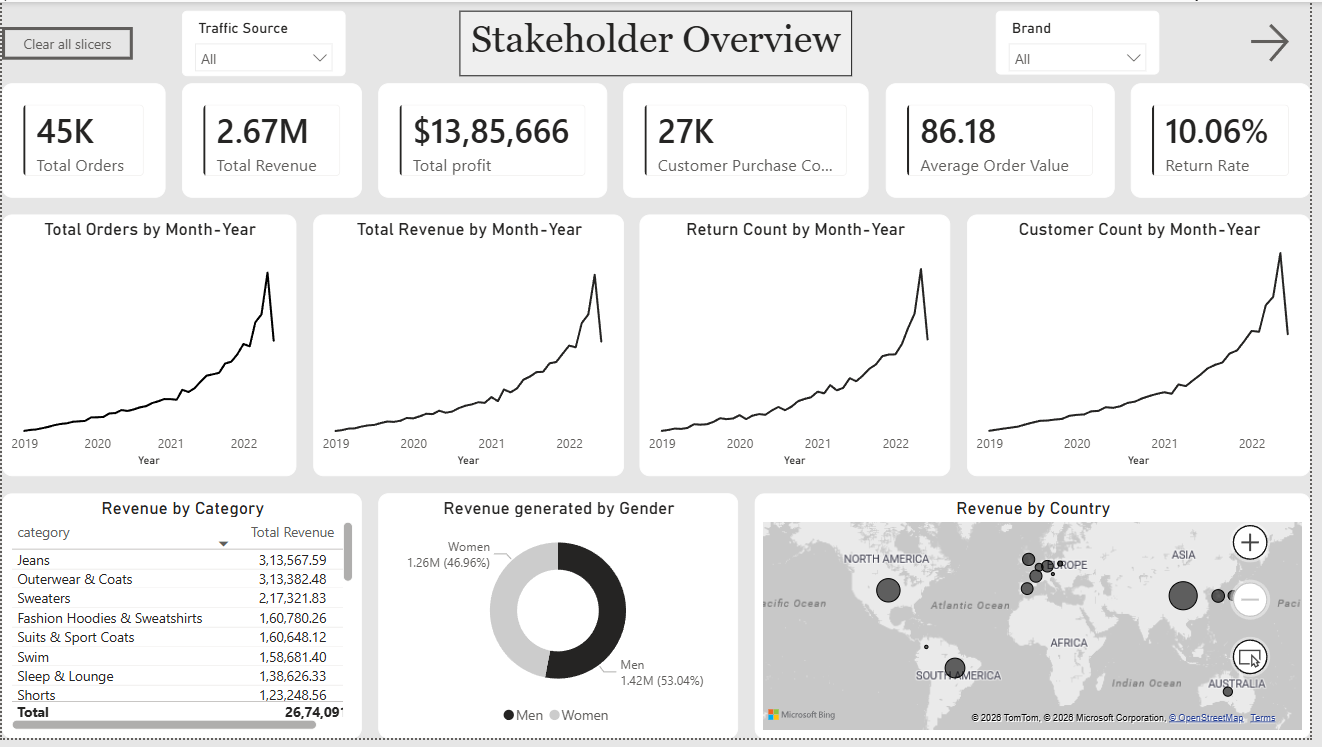

Layout of this report page (visuals, bound fields, positions):
{"tool":"powerbi","page":{"name":"Stakeholder Overview","canvas":[1280,720],"ordinal":1},"visuals":[{"type":"cardVisual","fields":{"Data":["Measure.Total Revenue"]},"box":[176,80,176,112],"z":0},{"type":"cardVisual","fields":{"Data":["Measure.Total profit"]},"box":[368,80,224,112],"z":1000},{"type":"cardVisual","fields":{"Data":["Stakeholder Overview Measure.Total Orders"]},"box":[0,80,160,112],"z":2000},{"type":"cardVisual","fields":{"Data":["Stakeholder Overview Measure.Customer purchase cnt"]},"box":[608,80,240,112],"z":3000},{"type":"cardVisual","fields":{"Data":["Stakeholder Overview Measure.Average Order Value"]},"box":[864,80,224,112],"z":4000},{"type":"cardVisual","fields":{"Data":["Stakeholder Overview Measure.Return Rate"]},"box":[1104,80,176,112],"z":5000},{"type":"lineChart","title":"Total Revenue by Month-Year","fields":{"Category":["Date table.Date.Variation.Date Hierarchy.Year","Date table.Date.Variation.Date Hierarchy.Month"],"Y":["Stakeholder Overview Measure.Total Revenue"]},"box":[304,208,304,256],"z":6000},{"type":"tableEx","title":"Revenue by Category","fields":{"Values":["public products.category","Stakeholder Overview Measure.Total Revenue"]},"box":[0,480,352,240],"z":7000},{"type":"donutChart","title":"Revenue generated by Gender","fields":{"Category":["public products.department"],"Y":["Stakeholder Overview Measure.Total Revenue"]},"box":[368,480,352,240],"z":8000},{"type":"map","title":"Revenue by Country","fields":{"Category":["public users.country"],"Size":["Stakeholder Overview Measure.Total Revenue"]},"box":[736,480,544,240],"z":9000},{"type":"lineChart","title":"Return Count by Month-Year","fields":{"Category":["Date table.Date.Variation.Date Hierarchy.Year","Date table.Date.Variation.Date Hierarchy.Month"],"Y":["Stakeholder Overview Measure.Return Cnt"]},"box":[624,208,304,256],"z":10000},{"type":"textbox","box":[448,9,384,64],"z":11000},{"type":"lineChart","title":"Customer Count by Month-Year","fields":{"Category":["Date table.Date.Variation.Date Hierarchy.Year","Date table.Date.Variation.Date Hierarchy.Month"],"Y":["Stakeholder Overview Measure.distinct customer cnt"]},"box":[944,208,336,256],"z":12000},{"type":"lineChart","title":"Total Orders by Month-Year","fields":{"Category":["Date table.Date.Variation.Date Hierarchy.Year","Date table.Date.Variation.Date Hierarchy.Month"],"Y":["Stakeholder Overview Measure.Total Orders"]},"box":[0,208,288,256],"z":13000},{"type":"actionButton","box":[1216,16,64,48],"z":14000},{"type":"slicer","fields":{"Values":["public products.brand"]},"box":[972,8,160,62],"z":15000},{"type":"slicer","fields":{"Values":["public users.traffic_source"]},"box":[176,8,160,64],"z":16000},{"type":"actionButton","box":[0,24,128,32],"z":17000}]}

Visuals, with their boxes in screenshot pixels (x1, y1, x2, y2), scaled from the page's 1280x720 canvas onto the 1322x747 screenshot:
cardVisual - Measure.Total Revenue: bbox(182, 83, 364, 199)
cardVisual - Measure.Total profit: bbox(380, 83, 611, 199)
cardVisual - Stakeholder Overview Measure.Total Orders: bbox(0, 83, 165, 199)
cardVisual - Stakeholder Overview Measure.Customer purchase cnt: bbox(628, 83, 876, 199)
cardVisual - Stakeholder Overview Measure.Average Order Value: bbox(892, 83, 1124, 199)
cardVisual - Stakeholder Overview Measure.Return Rate: bbox(1140, 83, 1321, 199)
"Total Revenue by Month-Year" lineChart: bbox(314, 216, 628, 481)
"Revenue by Category" tableEx: bbox(0, 498, 364, 746)
"Revenue generated by Gender" donutChart: bbox(380, 498, 744, 746)
"Revenue by Country" map: bbox(760, 498, 1321, 746)
"Return Count by Month-Year" lineChart: bbox(644, 216, 958, 481)
textbox: bbox(463, 9, 859, 76)
"Customer Count by Month-Year" lineChart: bbox(975, 216, 1321, 481)
"Total Orders by Month-Year" lineChart: bbox(0, 216, 297, 481)
actionButton: bbox(1256, 17, 1321, 66)
slicer - public products.brand: bbox(1004, 8, 1169, 73)
slicer - public users.traffic_source: bbox(182, 8, 347, 75)
actionButton: bbox(0, 25, 132, 58)
